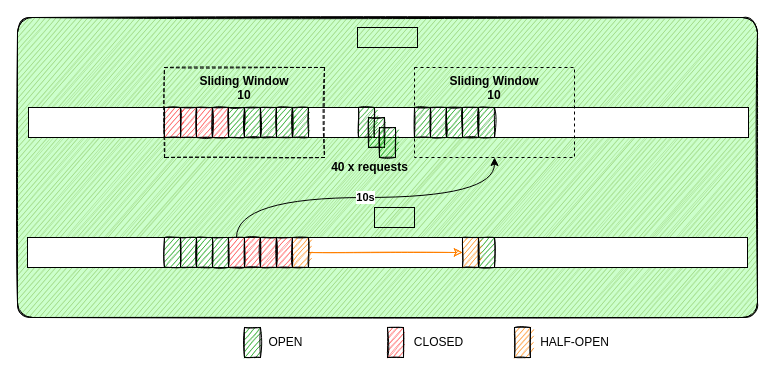
This 775x375 diagram has some shape labels left out. The box of each missing label's shape, as (x1, y1, x2, y2) in pixels:
State: (374, 206, 414, 228)
Timeline: (356, 26, 418, 48)
